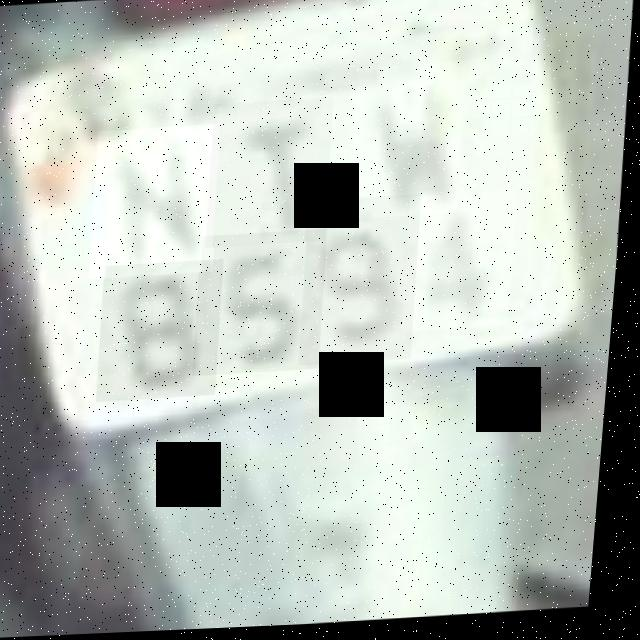4: (405, 193, 523, 335)
5: (198, 231, 334, 378)
8: (302, 198, 427, 369), (101, 261, 232, 403)
9: (295, 210, 426, 356)
N: (90, 125, 227, 280), (349, 64, 469, 222)
T: (207, 99, 339, 250)
